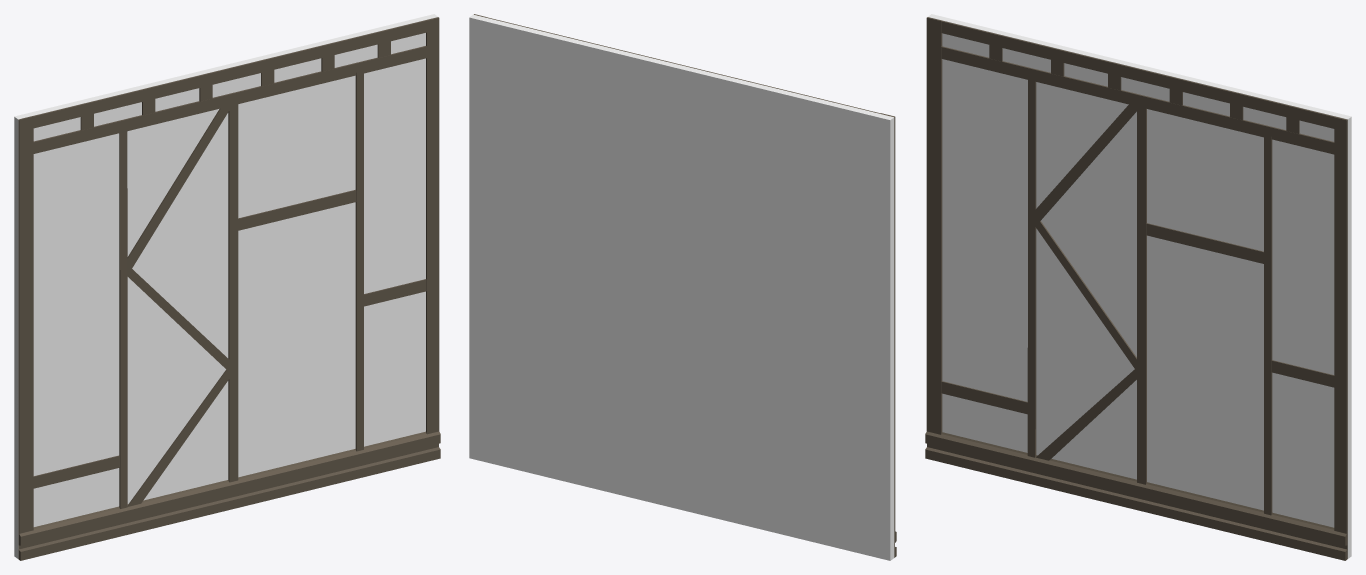
Rendered from WALL_05_1.glb.
3 renders of one model, left to right at view 1: azimuth 30°, elevation 25°; view 2: azimuth 150°, elevation 25°; view 3: azimuth 330°, elevation 25°, orthographic.
Visible parts, largest first — view 1: WALL_05_1; view 2: WALL_05_1; view 3: WALL_05_1.
Part boxes in pixels (x1,y1,x2,y2): WALL_05_1: (14,14,440,560); WALL_05_1: (469,14,896,560); WALL_05_1: (925,14,1351,560).
Size of the model in its own units: 3 by 3 by 0.08.
1 material, 1 textured.
